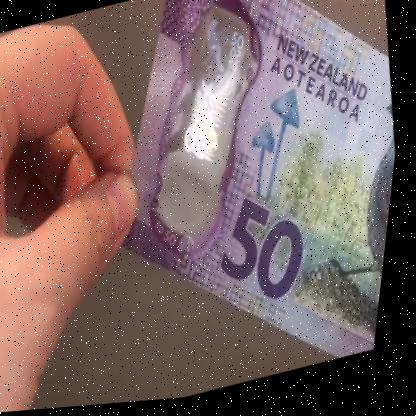50B: (156, 8, 279, 225)
